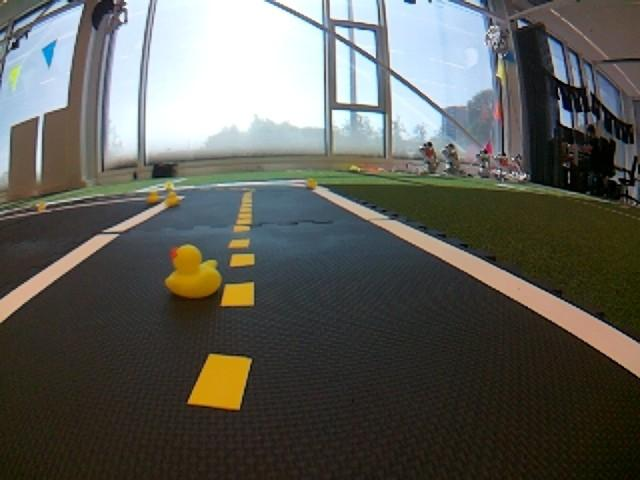Duckies: (165, 243, 224, 299), (164, 192, 181, 205), (146, 190, 161, 203), (306, 179, 317, 188), (37, 201, 46, 210), (165, 183, 174, 190)
